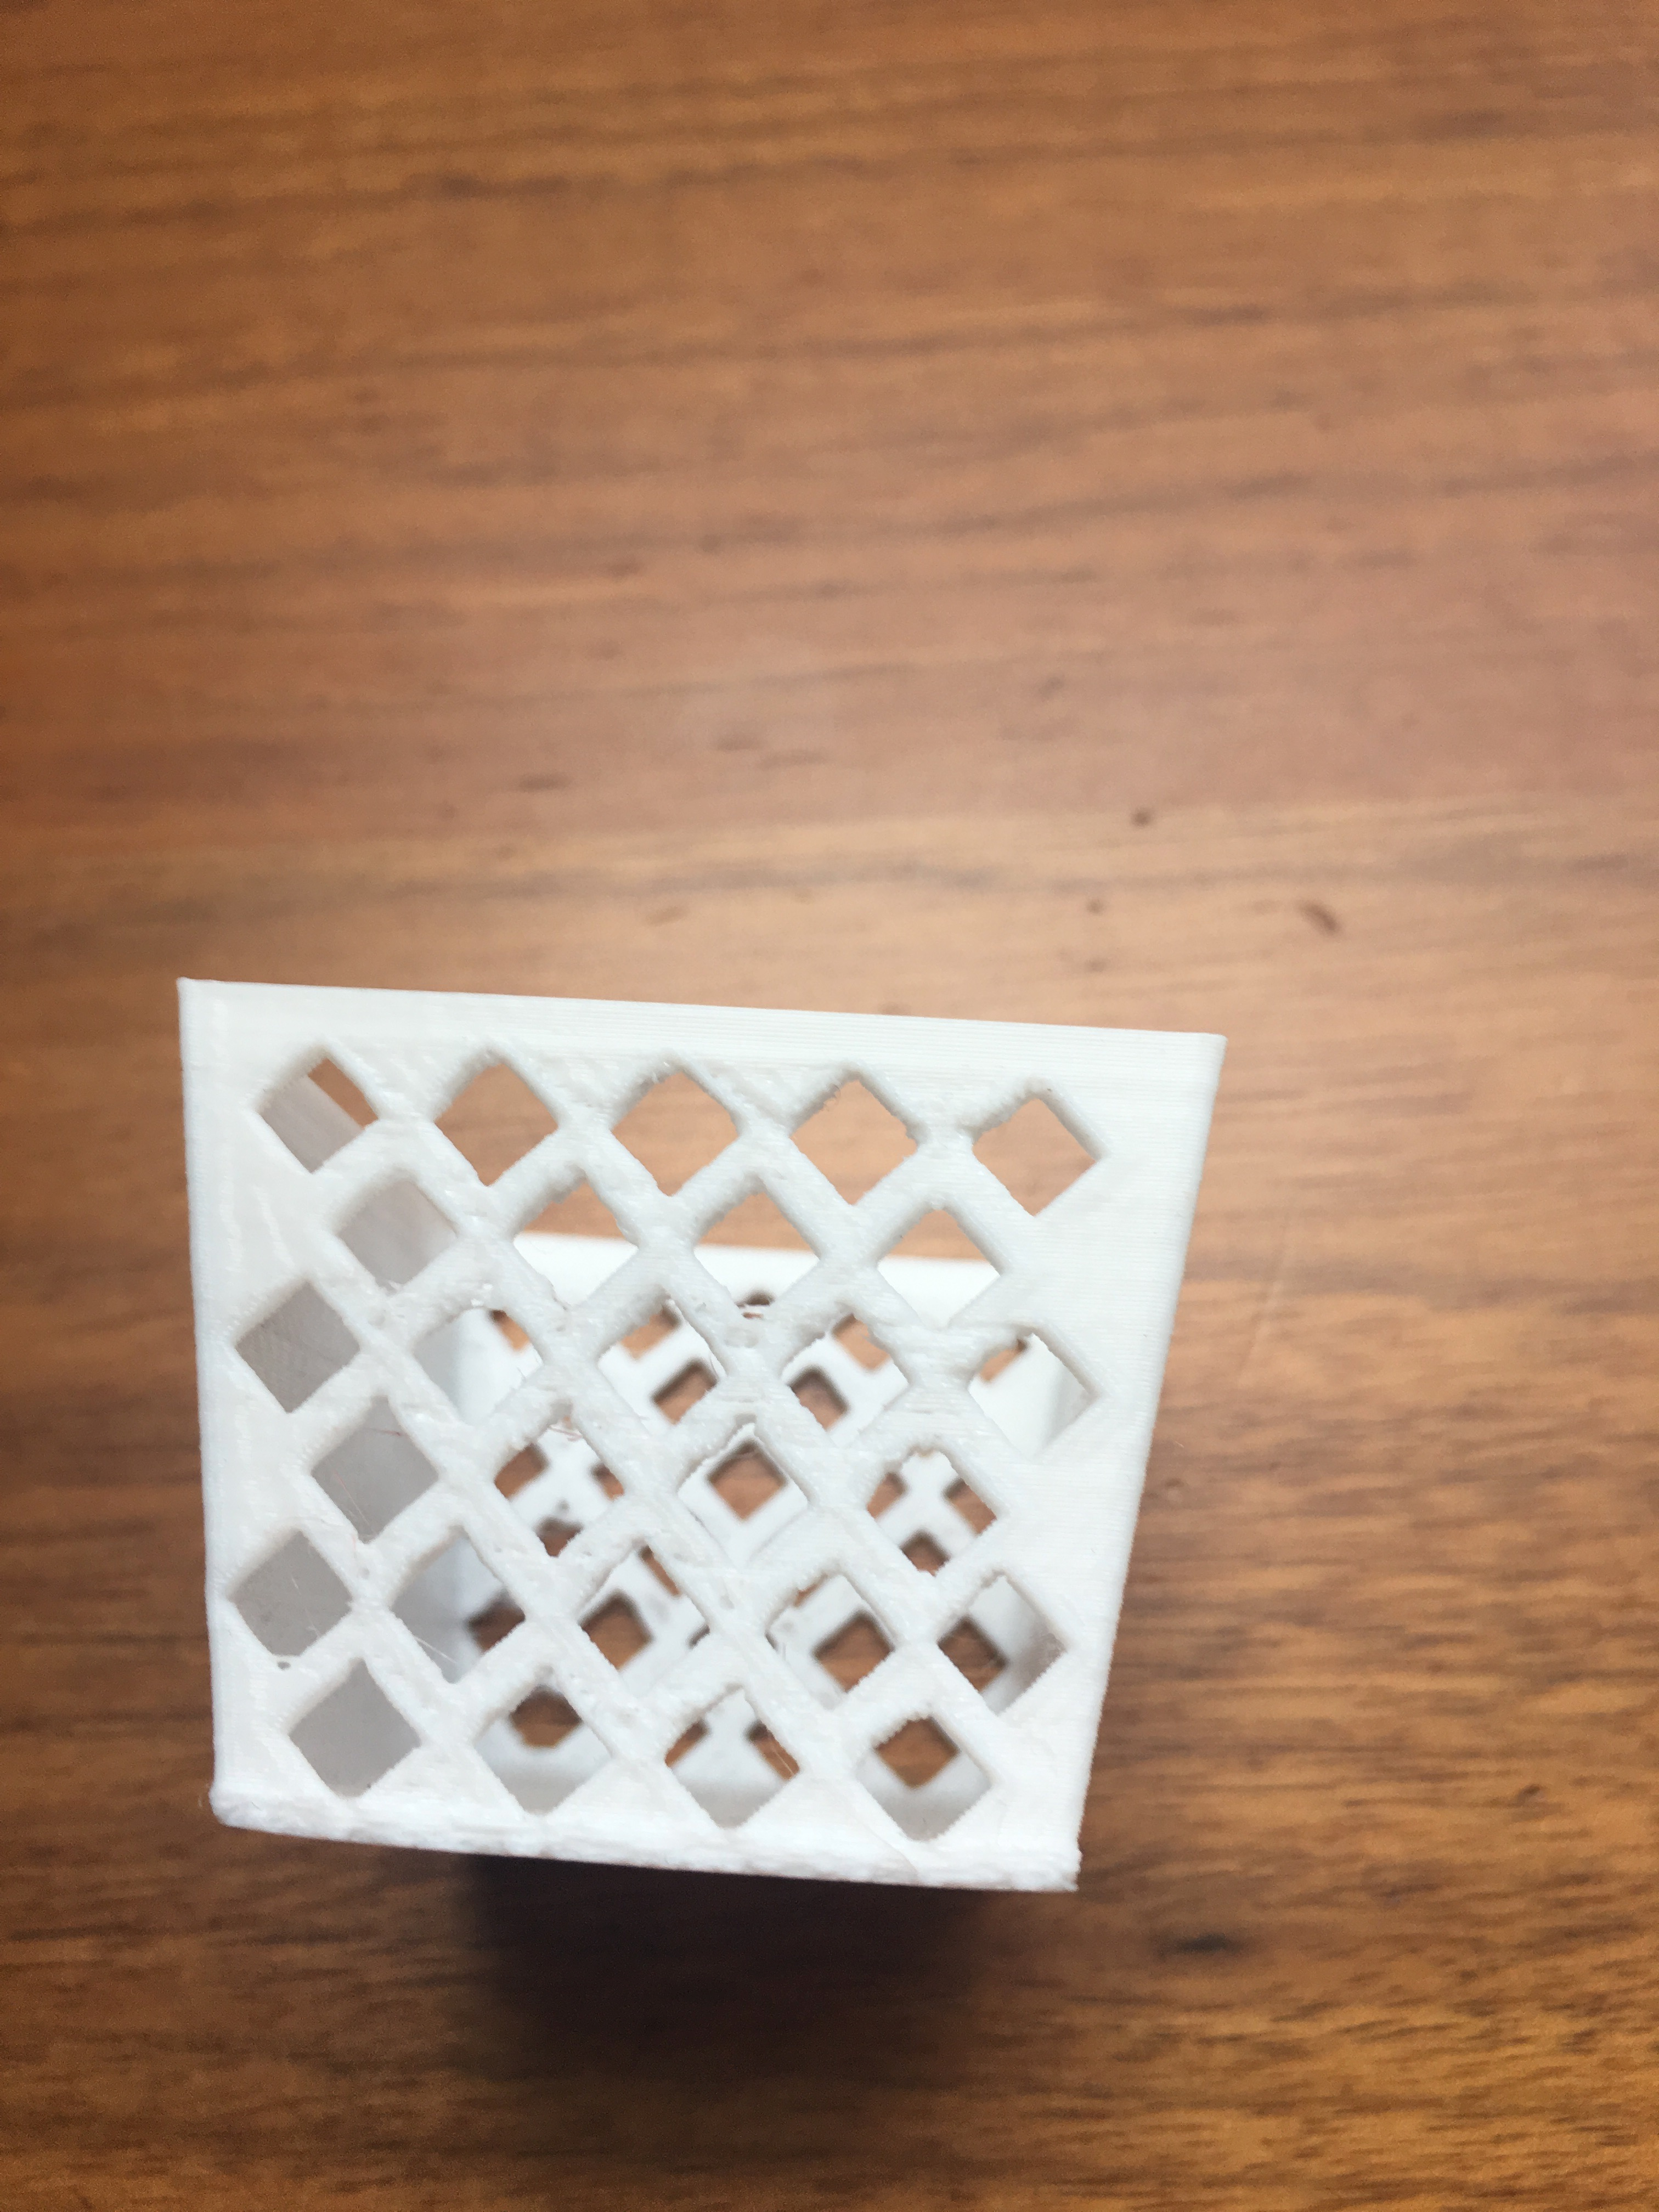3dpoverextrusion: (532, 1042, 655, 1130), (716, 1073, 833, 1157), (877, 1430, 974, 1489), (934, 1078, 1018, 1146)
3dpstringing: (420, 1268, 551, 1343), (525, 1404, 613, 1470), (701, 1287, 812, 1339), (235, 1630, 336, 1686), (415, 1632, 497, 1696)
3dpunderextrusion: (859, 1289, 1049, 1366), (702, 1383, 809, 1435), (690, 1568, 760, 1632), (552, 1538, 641, 1581), (375, 1386, 453, 1433), (345, 1550, 404, 1595)
